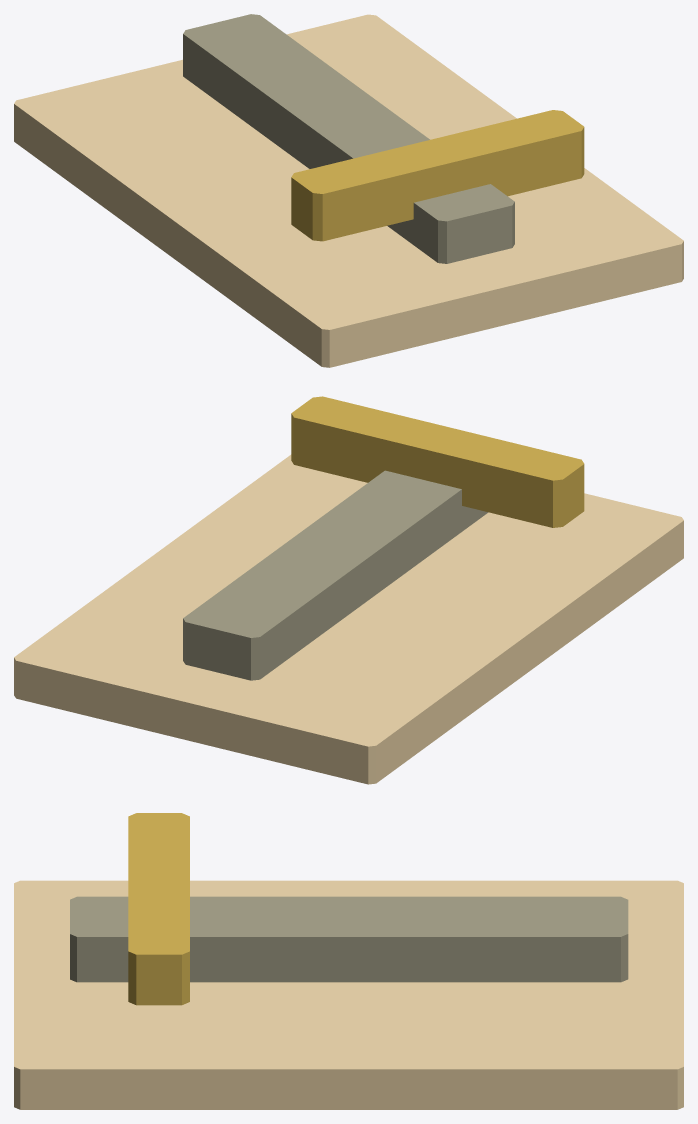
File: Equipment.fbx
3 views of the same model, one above another, from view 1: azimuth 30°, elevation 25°; view 2: azimuth 150°, elevation 25°; view 3: azimuth 270°, elevation 25° (orthographic). The views are drawn at different scales.
Visible parts, largest first — view 1: Equipment.005; view 2: Equipment.005; view 3: Equipment.005.
Part boxes in pixels (box(x1,y1,x2,y2)): Equipment.005: box(14, 14, 683, 367); Equipment.005: box(14, 396, 683, 784); Equipment.005: box(14, 813, 683, 1109).
Bounding box in the file's own units: 40 × 13 × 60.
